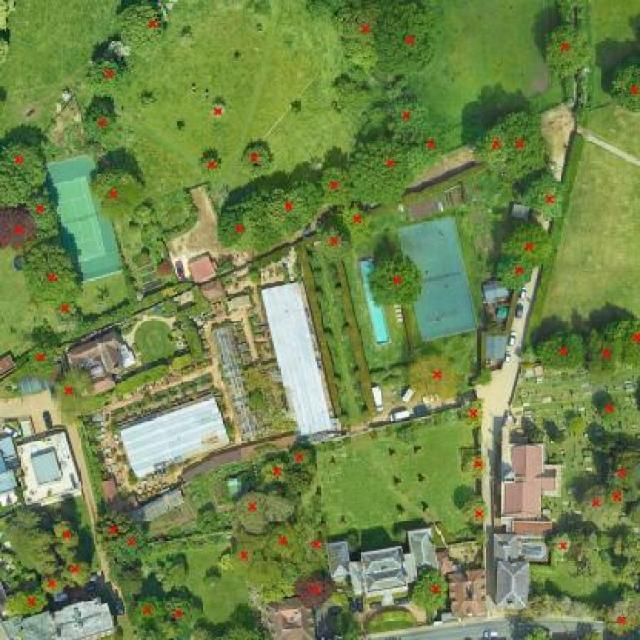tree: (372, 0, 439, 78), (356, 137, 418, 208), (22, 243, 83, 306), (219, 199, 281, 255), (0, 140, 48, 209), (370, 251, 422, 307), (502, 112, 545, 179), (232, 492, 293, 534), (272, 183, 321, 235), (503, 220, 555, 269), (116, 0, 165, 51), (547, 26, 593, 80), (333, 0, 377, 55), (55, 367, 93, 428), (94, 168, 137, 219), (536, 331, 587, 371), (410, 356, 459, 396), (524, 173, 564, 221), (24, 193, 61, 244), (411, 569, 449, 615), (386, 97, 429, 137), (0, 206, 37, 252), (295, 568, 335, 610), (612, 54, 640, 114), (160, 596, 205, 633), (322, 165, 359, 210), (299, 512, 330, 565), (583, 330, 619, 375), (129, 595, 166, 638), (607, 320, 640, 368), (95, 511, 135, 548), (606, 445, 640, 488), (606, 595, 640, 636), (244, 559, 287, 590), (339, 206, 376, 242), (263, 526, 302, 560), (90, 56, 128, 90), (282, 443, 318, 477), (85, 105, 118, 142), (482, 126, 509, 171), (317, 228, 352, 262), (28, 342, 60, 379), (415, 129, 443, 171), (120, 526, 149, 566), (156, 559, 190, 592), (241, 143, 274, 177), (496, 260, 532, 289), (6, 592, 49, 616), (61, 555, 92, 587), (581, 485, 608, 521), (230, 542, 259, 573), (261, 455, 288, 488), (463, 494, 489, 525), (460, 395, 483, 430), (54, 521, 81, 548), (461, 454, 488, 478), (38, 549, 60, 575), (56, 298, 78, 321), (200, 155, 222, 177), (606, 487, 626, 510), (601, 398, 621, 420), (551, 532, 569, 556), (621, 525, 639, 548), (589, 532, 612, 550), (626, 500, 640, 528), (41, 579, 64, 596), (203, 570, 222, 588), (567, 416, 587, 433), (568, 526, 585, 545), (211, 103, 225, 119), (529, 429, 546, 442), (555, 432, 566, 445)
